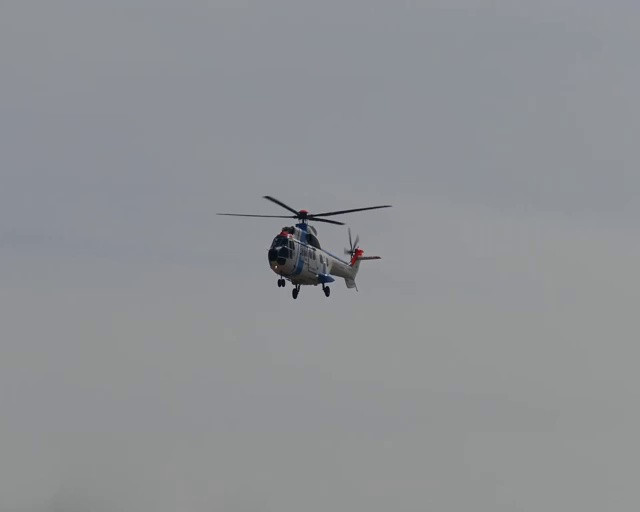HELICOPTER: (215, 194, 392, 299)
